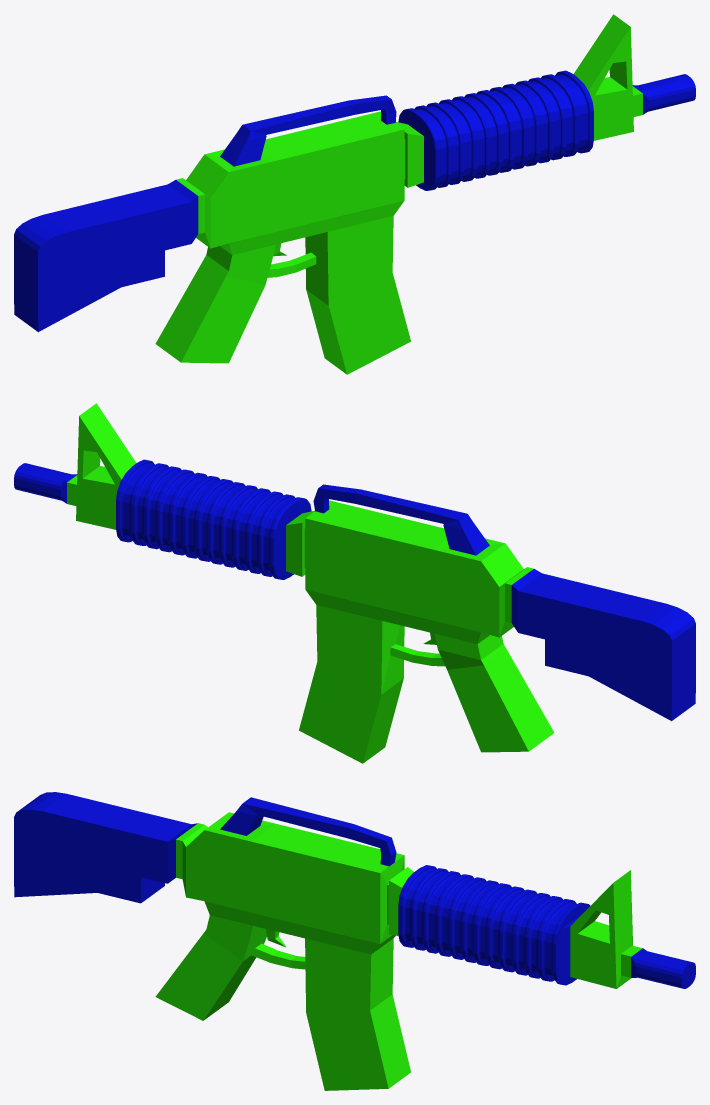
The picture shows the model from 3 angles, top to bottom: view 1: azimuth 30°, elevation 25°; view 2: azimuth 150°, elevation 25°; view 3: azimuth 330°, elevation 25°; orthographic projection.
Visible parts, largest first — view 1: Cube; view 2: Cube; view 3: Cube.
Boxes of the visible parts, x1=… form: Cube: x1=14, y1=14, x2=695, y2=374; Cube: x1=14, y1=403, x2=695, y2=763; Cube: x1=14, y1=792, x2=695, y2=1090.
Size of the model in its own units: 480 by 191 by 47.52.
